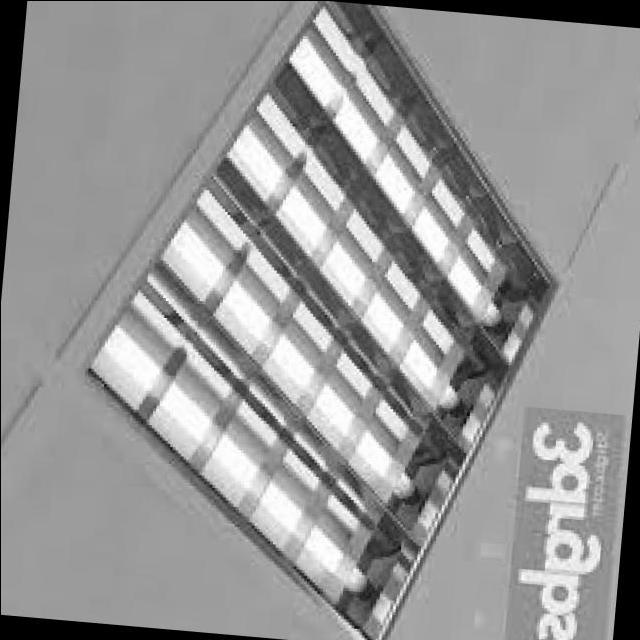light: (83, 1, 558, 636)
